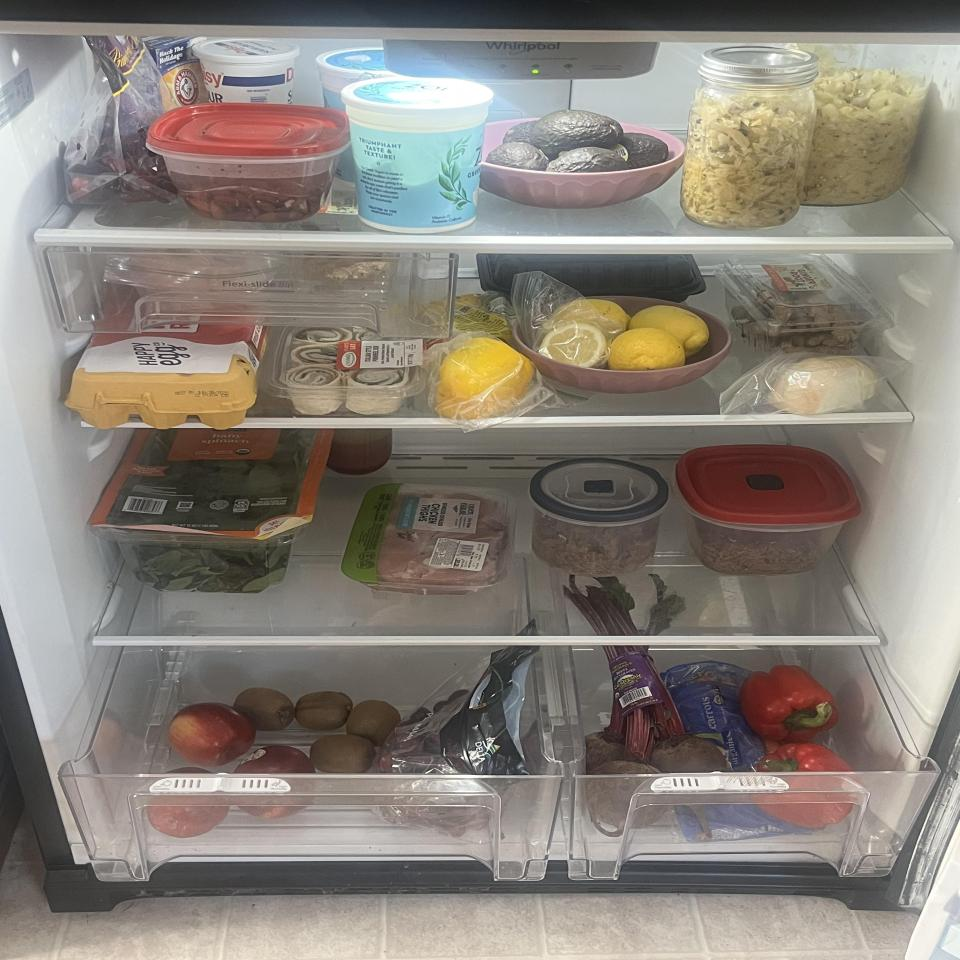Aguacate: (532, 109, 624, 152), (548, 147, 629, 177), (487, 142, 549, 173), (620, 133, 669, 169), (502, 121, 534, 143)
Carne pollo: (342, 480, 517, 595)
Huevos: (64, 323, 266, 429)
Limón: (608, 327, 689, 375), (631, 305, 716, 350), (539, 324, 612, 368), (542, 299, 629, 334)
Manzana: (235, 744, 317, 818), (147, 764, 230, 836), (167, 702, 257, 764)
Yogur: (345, 76, 491, 234), (197, 39, 305, 104)
